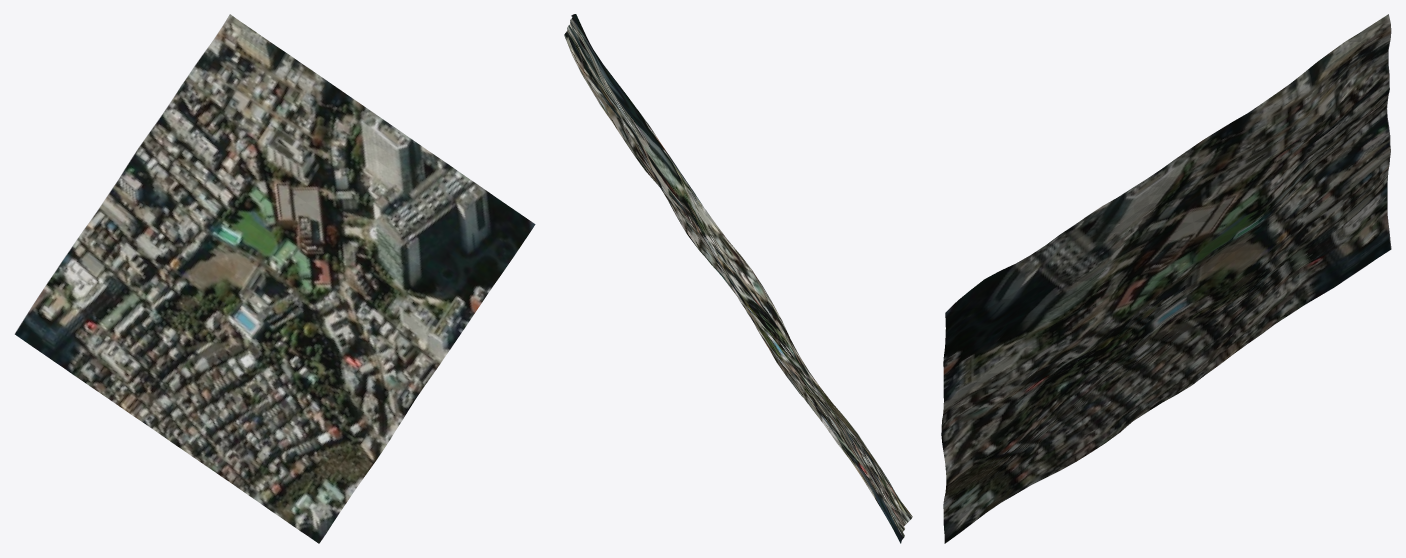
3 views of the same model, side by side, from view 1: azimuth 30°, elevation 25°; view 2: azimuth 150°, elevation 25°; view 3: azimuth 270°, elevation 25° (orthographic). The views are drawn at different scales.
Bounding box in the file's own units: 544 × 570 × 404.
1 material, 1 textured.
